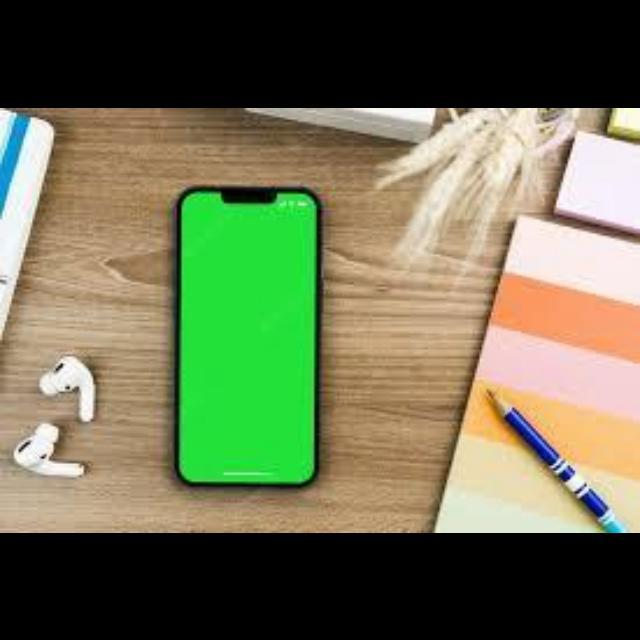Phone: (173, 184, 321, 491)
